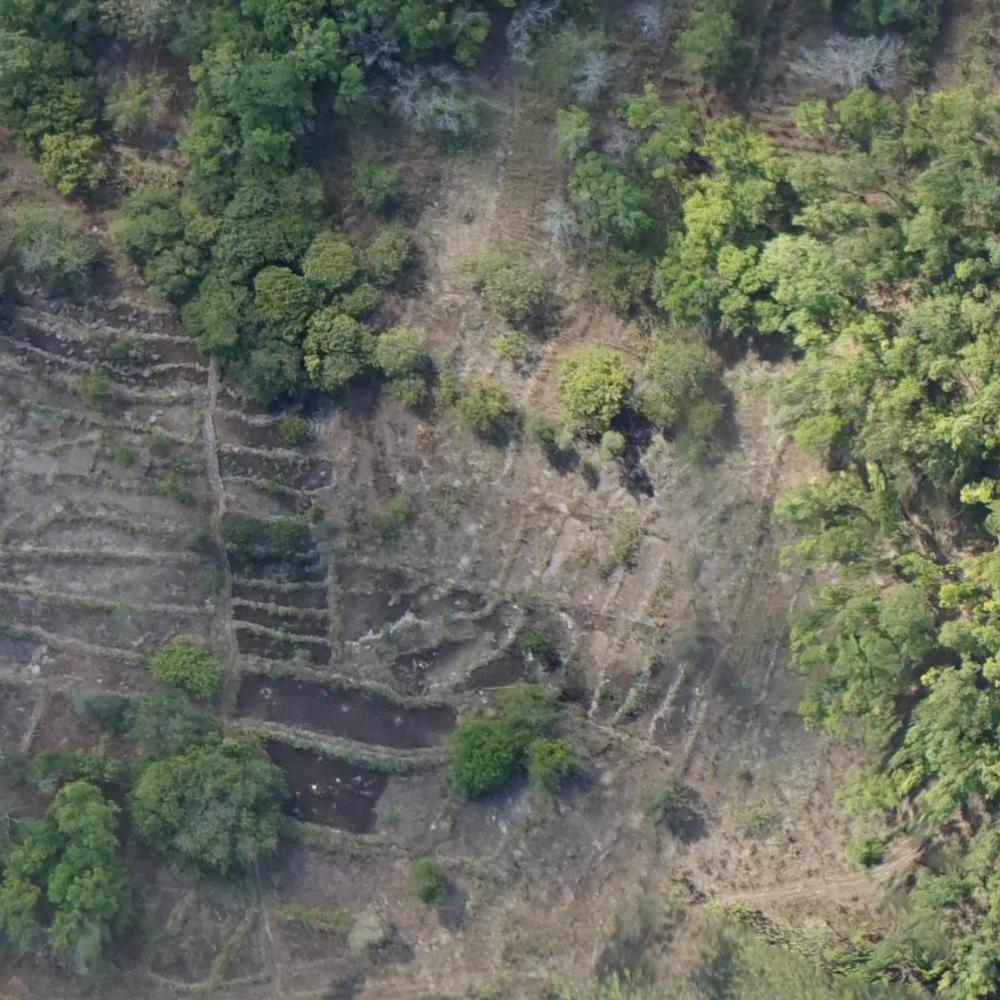tree: (756, 229, 829, 304), (558, 359, 625, 430), (306, 318, 369, 386), (46, 126, 108, 195), (582, 160, 643, 230), (654, 258, 713, 324), (35, 225, 95, 287), (289, 18, 354, 74), (477, 260, 541, 316), (185, 286, 238, 351), (452, 727, 506, 789), (702, 108, 758, 166), (135, 762, 185, 826), (110, 69, 164, 128), (657, 339, 718, 390), (919, 673, 977, 726), (254, 267, 306, 325), (643, 769, 694, 825), (877, 586, 932, 635), (55, 783, 98, 845), (841, 91, 897, 138), (242, 63, 294, 112), (455, 383, 509, 429), (801, 412, 846, 465), (366, 228, 416, 275), (246, 341, 292, 392), (157, 636, 201, 687), (353, 157, 391, 215), (376, 329, 427, 372), (152, 249, 198, 294), (820, 527, 865, 570), (681, 22, 724, 66), (415, 851, 452, 901), (308, 235, 349, 279), (682, 191, 720, 238), (190, 121, 231, 164), (226, 186, 271, 224), (397, 1, 442, 38), (911, 210, 952, 249), (855, 228, 891, 271), (847, 830, 883, 869), (737, 176, 769, 219), (914, 166, 949, 205), (795, 102, 830, 141), (557, 109, 588, 153), (534, 741, 573, 775), (401, 385, 438, 419), (720, 243, 749, 277), (511, 682, 542, 711), (270, 517, 300, 546), (251, 131, 278, 163), (283, 413, 310, 442), (892, 371, 919, 398), (604, 435, 629, 458)
